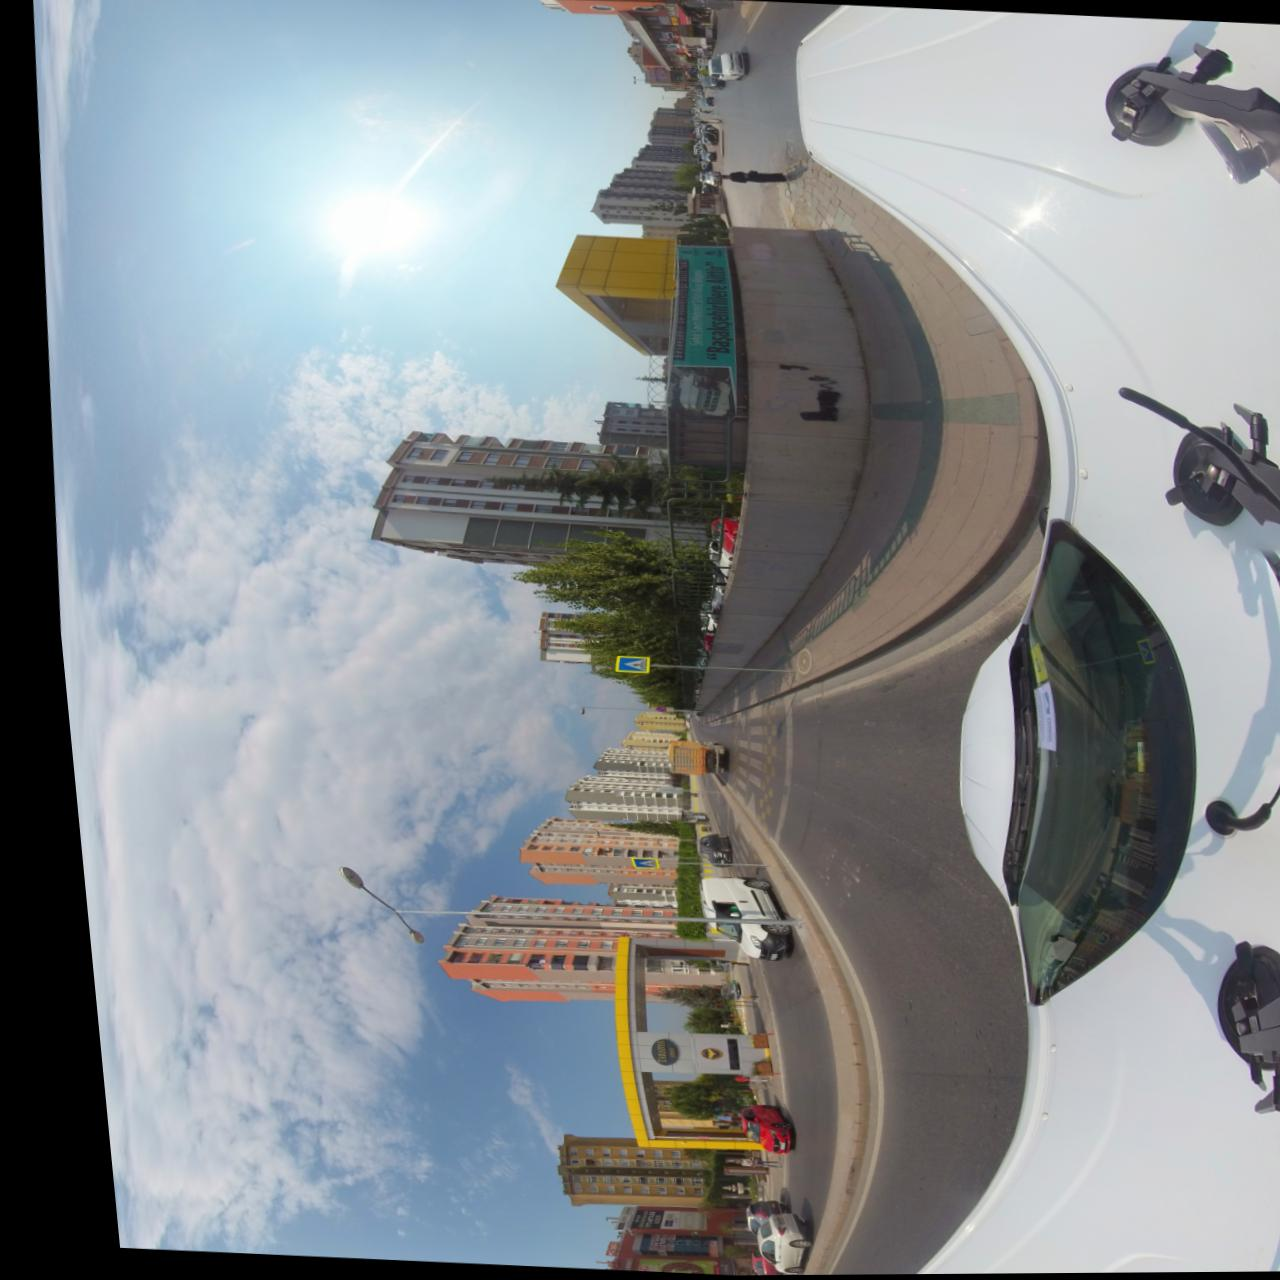SignStore: (666, 4, 678, 16), (694, 1264, 703, 1275), (668, 16, 678, 25), (666, 26, 676, 32)
